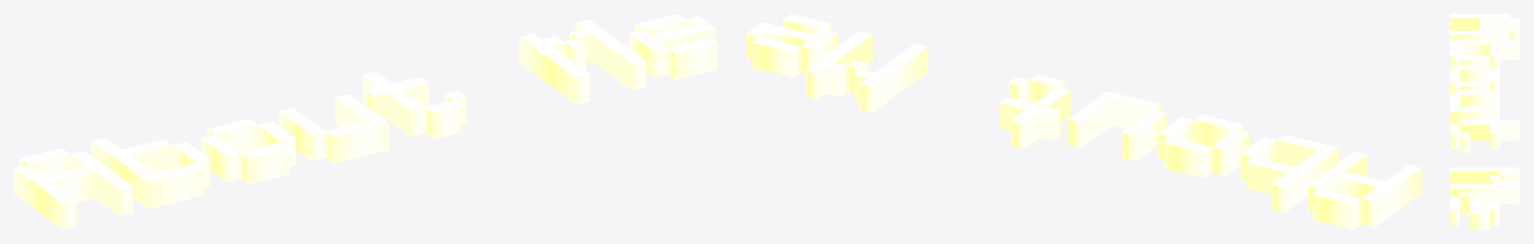
The model's file is neonsignV1.glb.
3 renders of one model, left to right at view 1: azimuth 30°, elevation 25°; view 2: azimuth 150°, elevation 25°; view 3: azimuth 270°, elevation 25°, orthographic. The views are drawn at different scales.
Visible parts, largest first — view 1: Text; view 2: Text; view 3: Text.
Boxes of the visible parts, <box> form: Text: <box>14,14,717,229</box>; Text: <box>746,14,1421,229</box>; Text: <box>1450,14,1519,229</box>.
Size of the model in its own units: 5.3 by 0.2 by 0.7778.
